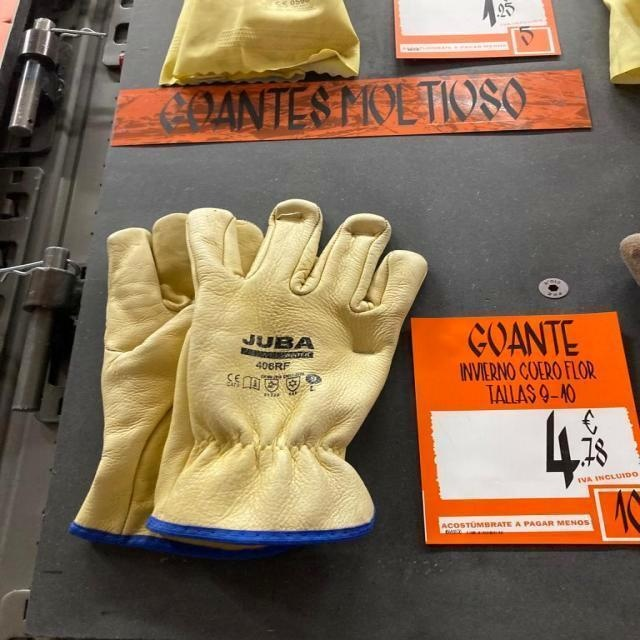Guantes: (105, 200, 418, 539)
